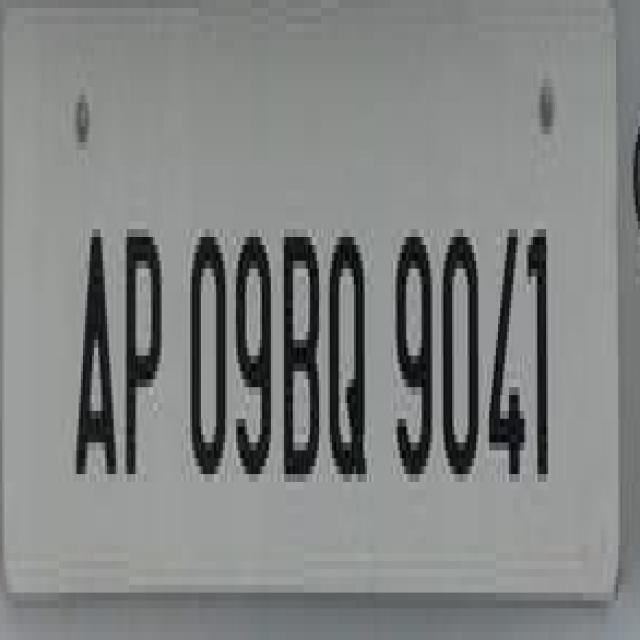license_plate: (2, 0, 607, 608)
